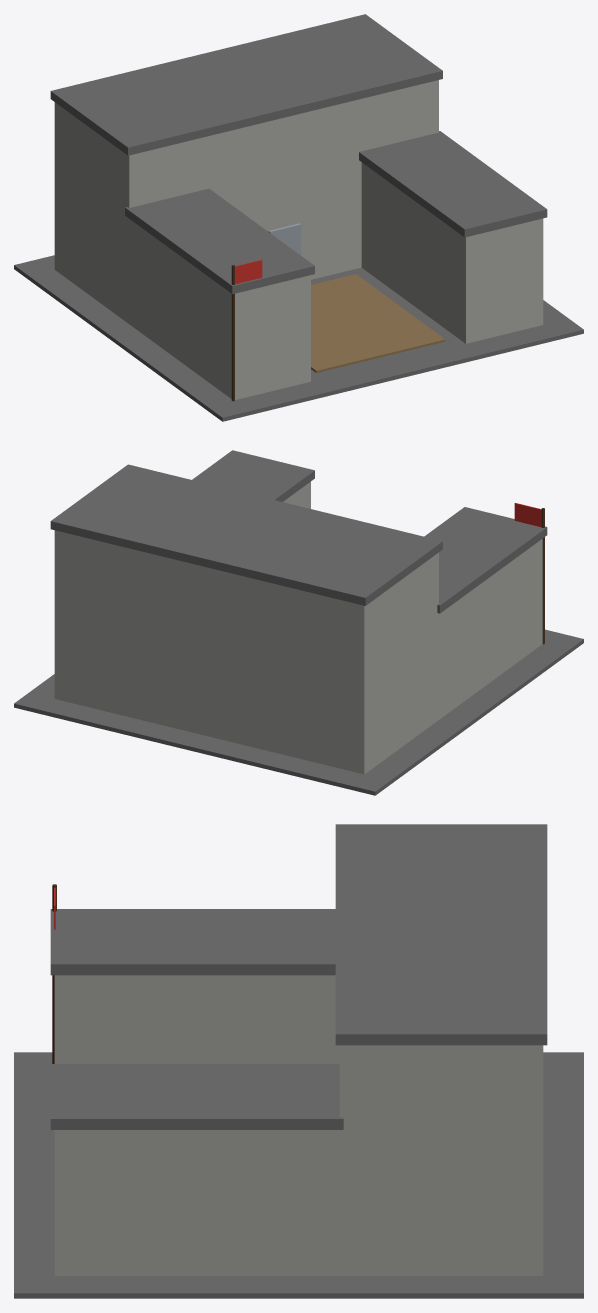
The model's file is bld_special_barracks_a06_lod2.glb.
The picture shows the model from 3 angles, top to bottom: view 1: azimuth 30°, elevation 25°; view 2: azimuth 150°, elevation 25°; view 3: azimuth 270°, elevation 25°; orthographic projection. The views are drawn at different scales.
Visible parts, largest first — view 1: body; view 2: body; view 3: body.
Part boxes in pixels (bbox=[...]): body: bbox=[14, 14, 583, 421]; body: bbox=[14, 450, 583, 795]; body: bbox=[14, 824, 583, 1298].
Bounding box in the file's own units: 14 × 6.75 × 14.
